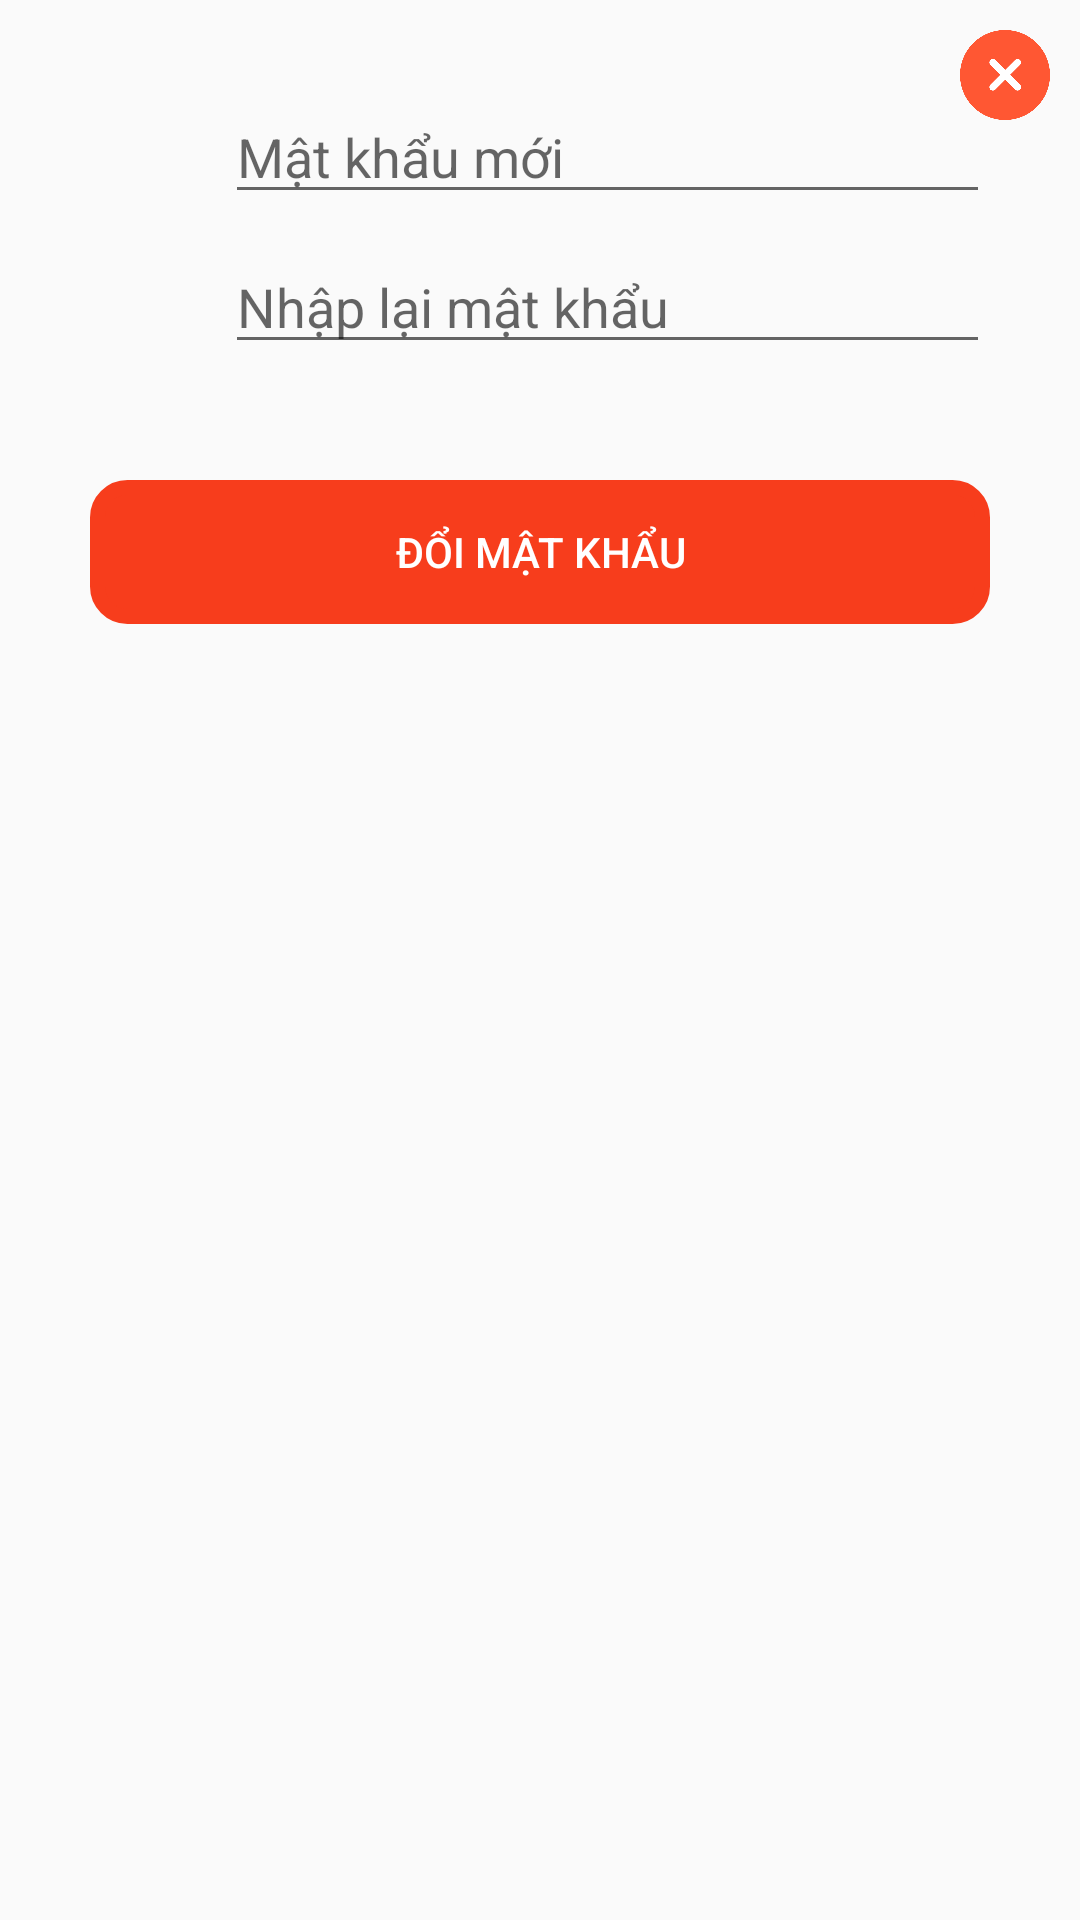

Locate icon controls on the screen. Image size 1080px x 1920px, boxes as BBox(x1, y1, x2, y2).
cancel: BBox(960, 30, 1050, 120)
